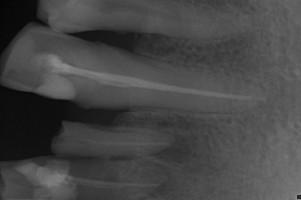Furcation Involvement: (151, 135, 193, 167), (148, 162, 175, 198)
